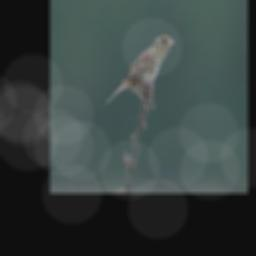Sparrow: (104, 32, 173, 110)
